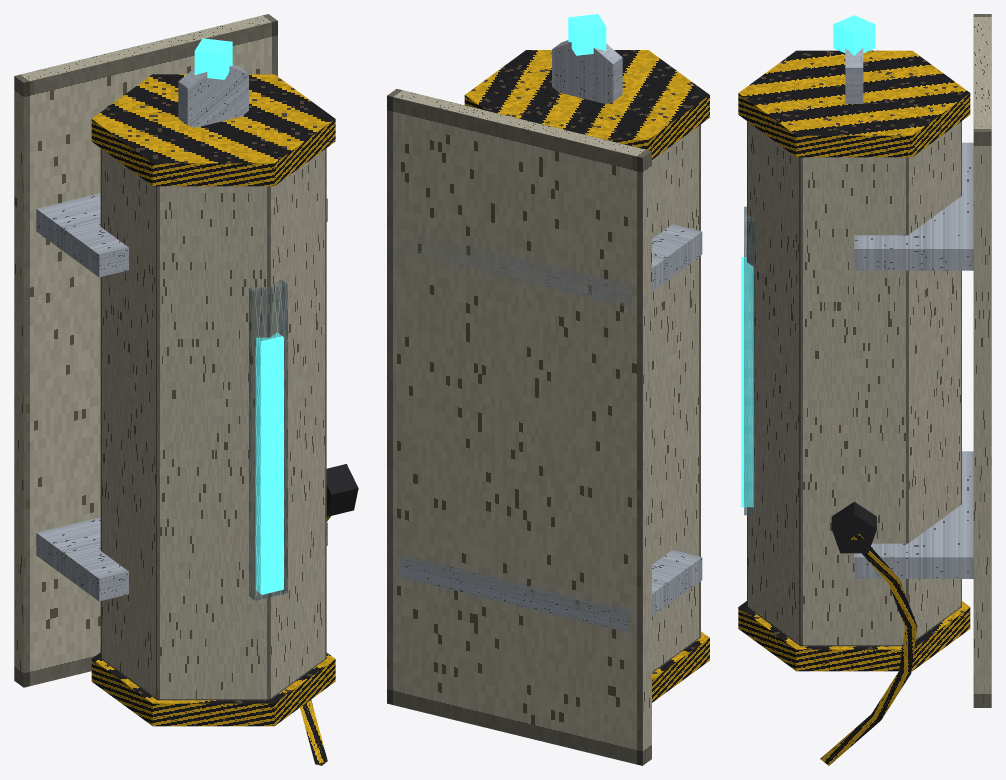
Rendered from oxypod_habitation_worn.glb.
3 renders of one model, left to right at view 1: azimuth 30°, elevation 25°; view 2: azimuth 150°, elevation 25°; view 3: azimuth 270°, elevation 25°, orthographic. The views are drawn at different scales.
Parts seen in each view (by area): view 1: oxypod_habitation_worn; view 2: oxypod_habitation_worn; view 3: oxypod_habitation_worn.
Boxes of the visible parts, box(x1,y1,x2,y2) form: oxypod_habitation_worn: box(14, 14, 358, 765); oxypod_habitation_worn: box(387, 14, 709, 765); oxypod_habitation_worn: box(738, 14, 991, 765).
Bounding box in the file's own units: 0.4809 × 1.29 × 0.4244.
Materials: 9 (9 with a texture image).
